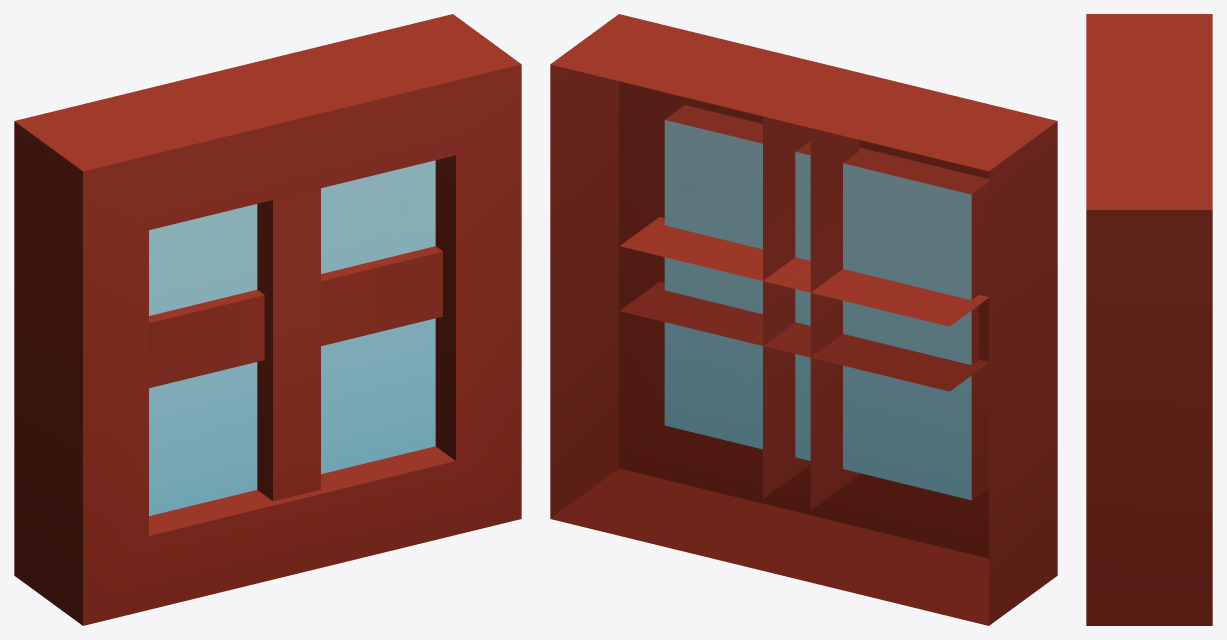
The model's file is Window_12A.fbx.
The picture shows the model from 3 angles, left to right: view 1: azimuth 30°, elevation 25°; view 2: azimuth 150°, elevation 25°; view 3: azimuth 270°, elevation 25°; orthographic projection. The views are drawn at different scales.
Visible parts, largest first — view 1: Window_12A; view 2: Window_12A; view 3: Window_12A.
Part boxes in pixels (x1,y1,x2,y2): Window_12A: [14, 14, 521, 625]; Window_12A: [550, 14, 1057, 625]; Window_12A: [1086, 14, 1212, 625].
Bounding box in the file's own units: 69.1 × 68.41 × 18.79.
2 materials, 2 textured.
